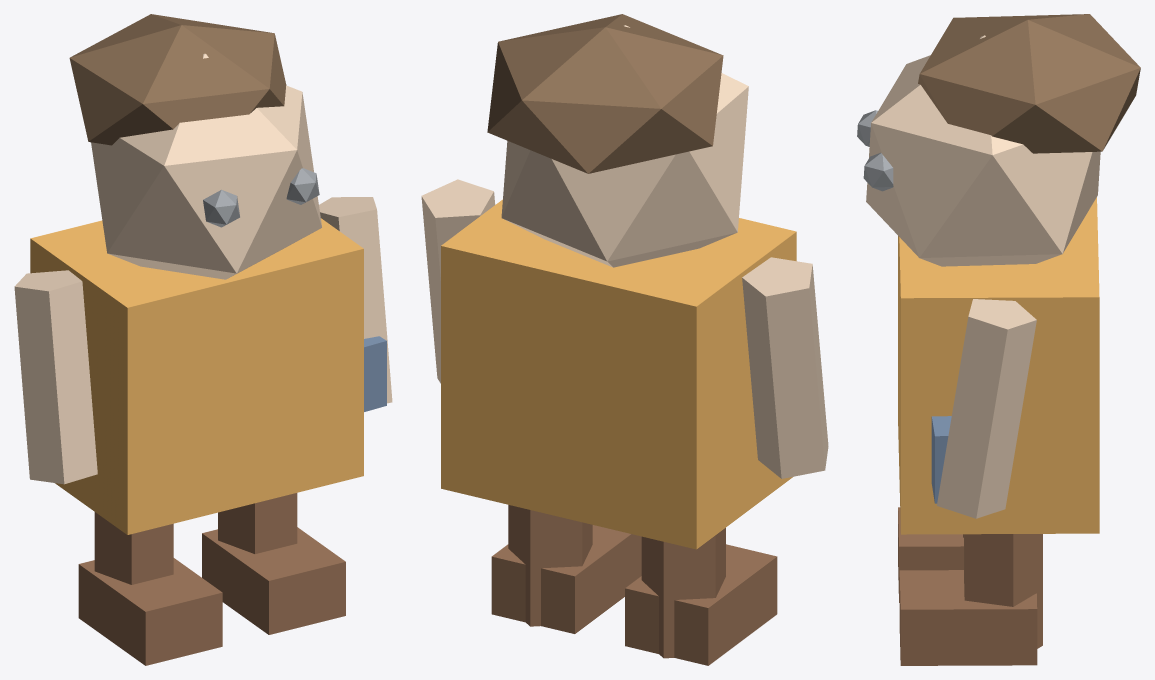
The model's file is npcpose_villager_idle_00.glb.
3 views of the same model, side by side, from view 1: azimuth 30°, elevation 25°; view 2: azimuth 150°, elevation 25°; view 3: azimuth 270°, elevation 25° (orthographic). The views are drawn at different scales.
Parts seen in each view (by area): view 1: npcpose; view 2: npcpose; view 3: npcpose.
Part boxes in pixels (x1,y1,x2,y2): npcpose: (14,14,392,665); npcpose: (421,14,828,665); npcpose: (857,14,1140,665).
Bounding box in the file's own units: 0.6982 × 1.06 × 0.4572.
